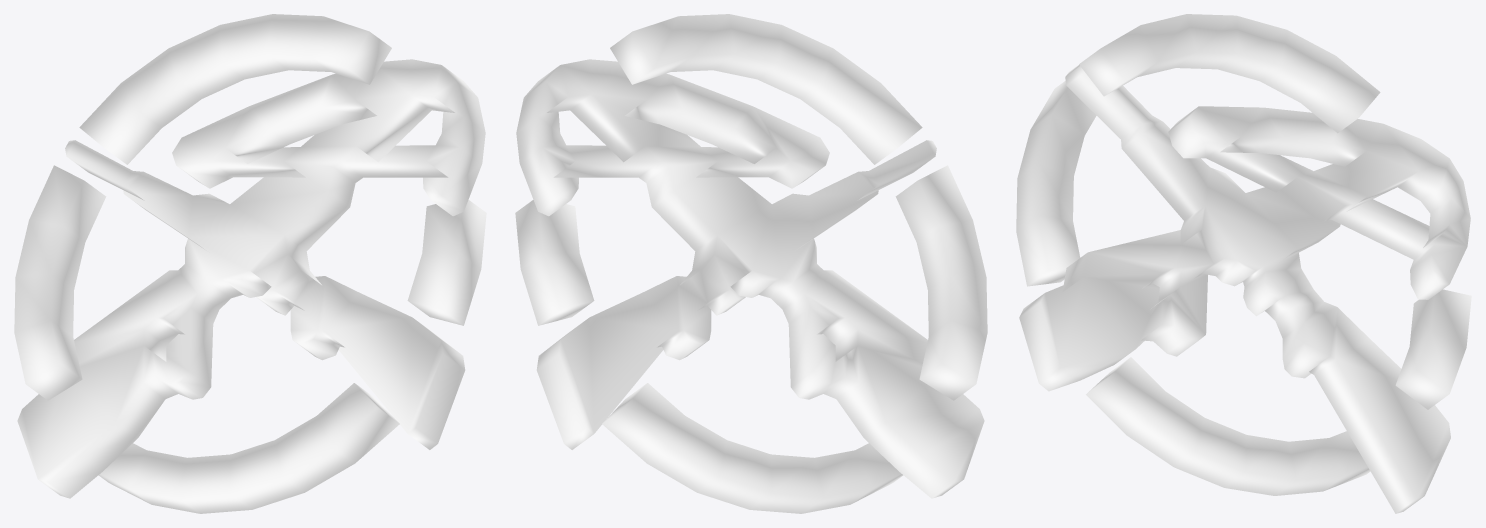
File: ps2_save-icons_cabelasdangeroushunts.glb
3 views of the same model, side by side, from view 1: azimuth 30°, elevation 25°; view 2: azimuth 150°, elevation 25°; view 3: azimuth 330°, elevation 25° (orthographic). The views are drawn at different scales.
Parts seen in each view (by area): view 1: static.ico; view 2: static.ico; view 3: static.ico.
Part boxes in pixels (x1,y1,x2,y2): static.ico: [14, 14, 486, 513]; static.ico: [515, 14, 987, 513]; static.ico: [1016, 14, 1471, 513].
Bounding box in the file's own units: 3.61 × 3.61 × 0.3145.
1 material, 1 textured.
